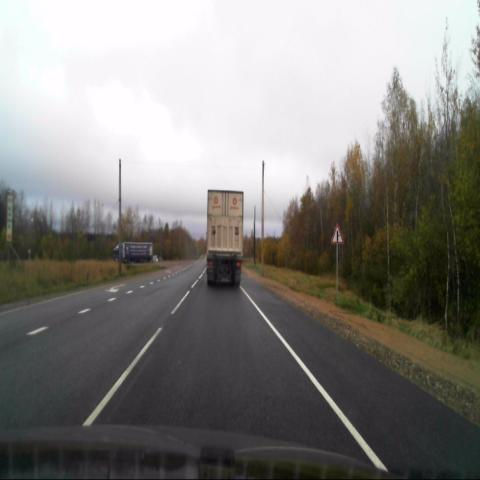2_3_2: (330, 223, 344, 244)
